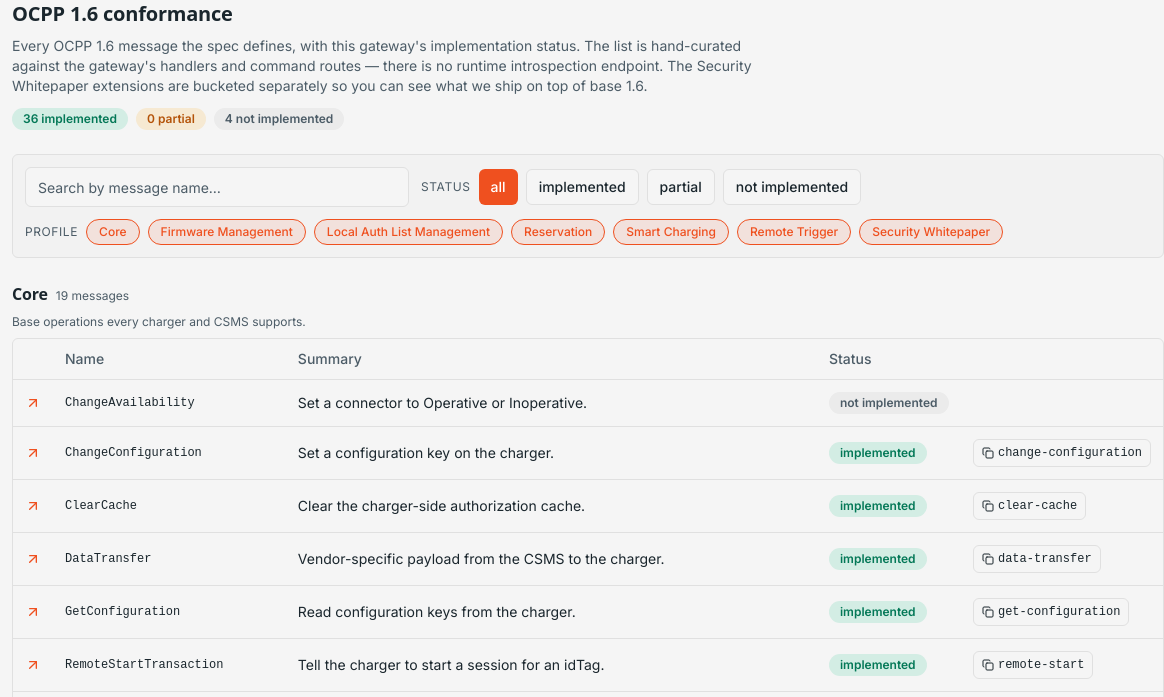
Test: OcppConformancePage — filters › profile chip toggles a profile off and on
The width and height of the screenshot is (1164, 697).
Note: Click the SmartCharging chip — should hide its rows.
What coordinates should you click on to do the following:
click the button "Smart Charging"
I would click on:
 (671, 232)
Its box is [613,219,729,245].
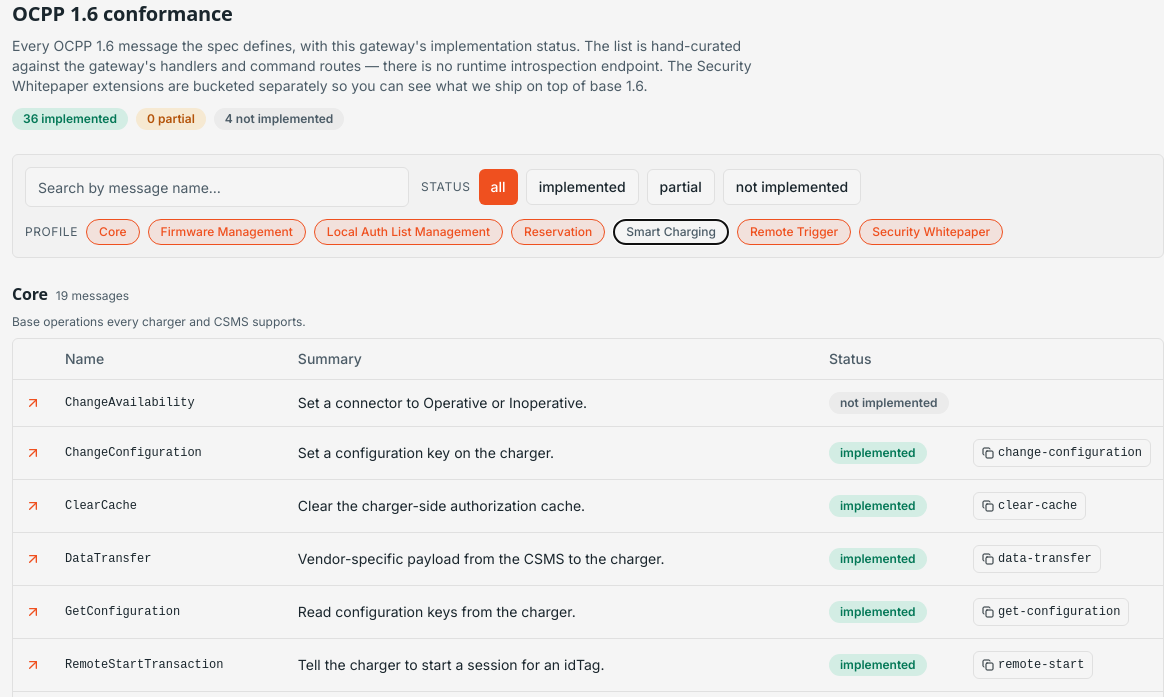
Note: Click again to re-enable.
What coordinates should you click on to do the following:
click the button "Smart Charging"
I would click on:
 (671, 232)
Its box is [613,219,729,245].
(page scrolled)
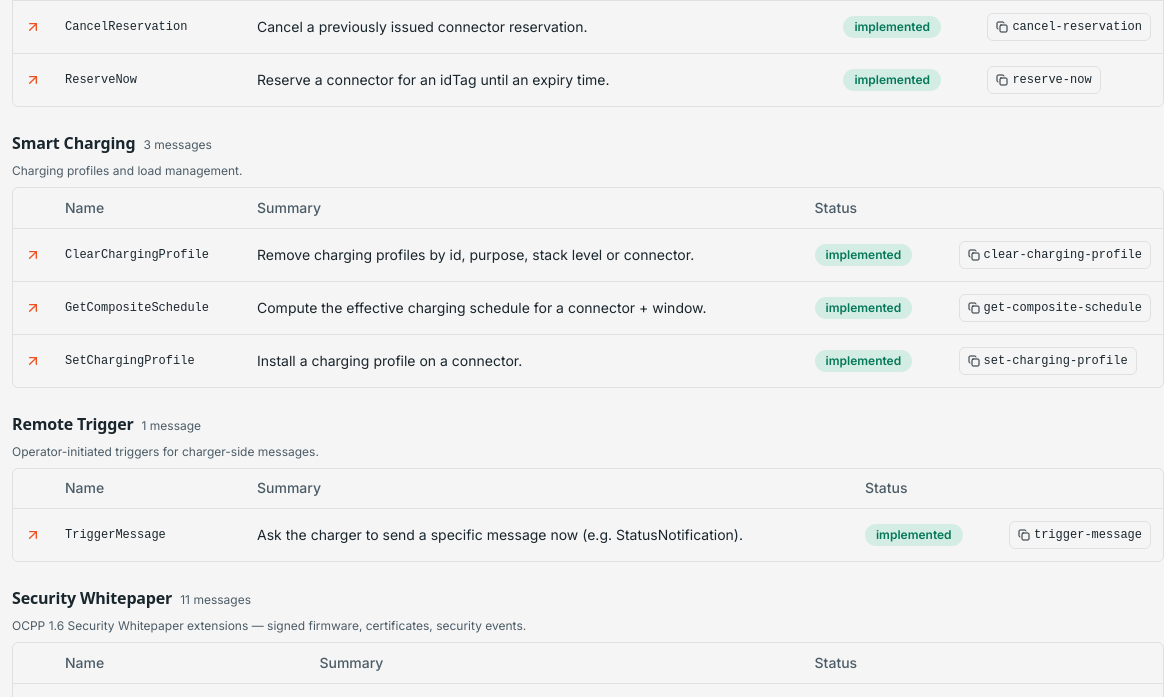
Expected: the row with test id "row-SetChargingProfile-csms-to-charger" is shown, [13,334,1163,386]
